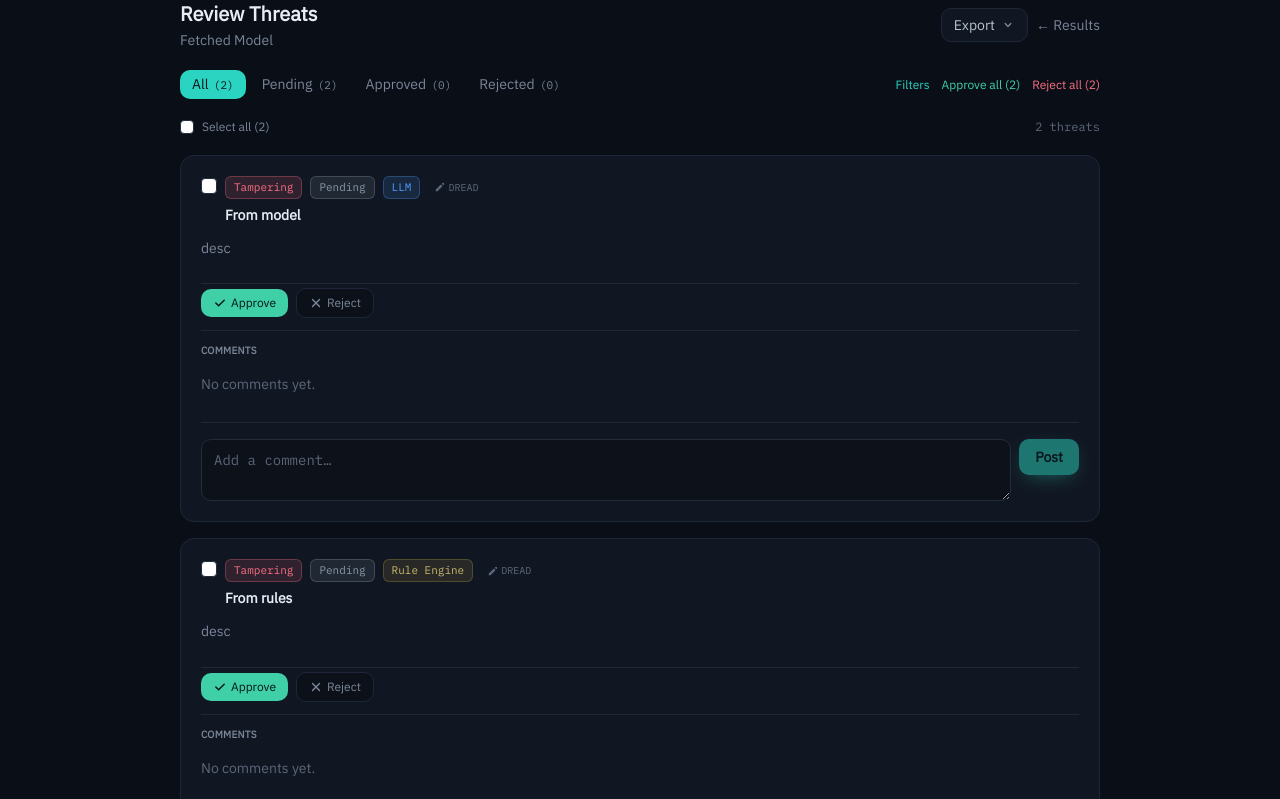
Test: Review — source filter › returns to all sources when "All" is chosen again
Expected: the heading "From model" is shown, [225,206,301,224]
What coordinates should you click on to do the following:
click the button "Filters"
I would click on:
 (913, 84)
Its box is [896,76,930,92].
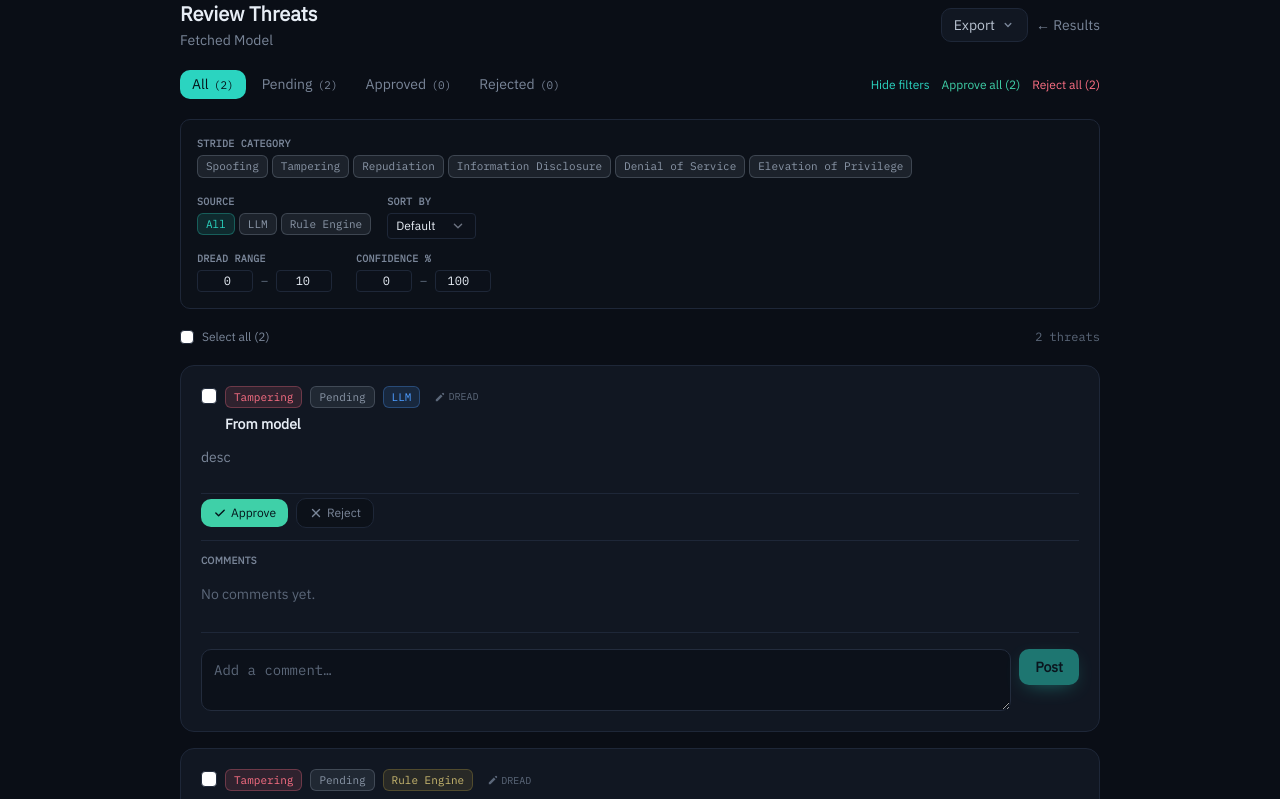
What coordinates should you click on to do the following:
click the button "LLM"
I would click on:
 (258, 224)
Its box is [239,212,277,235].
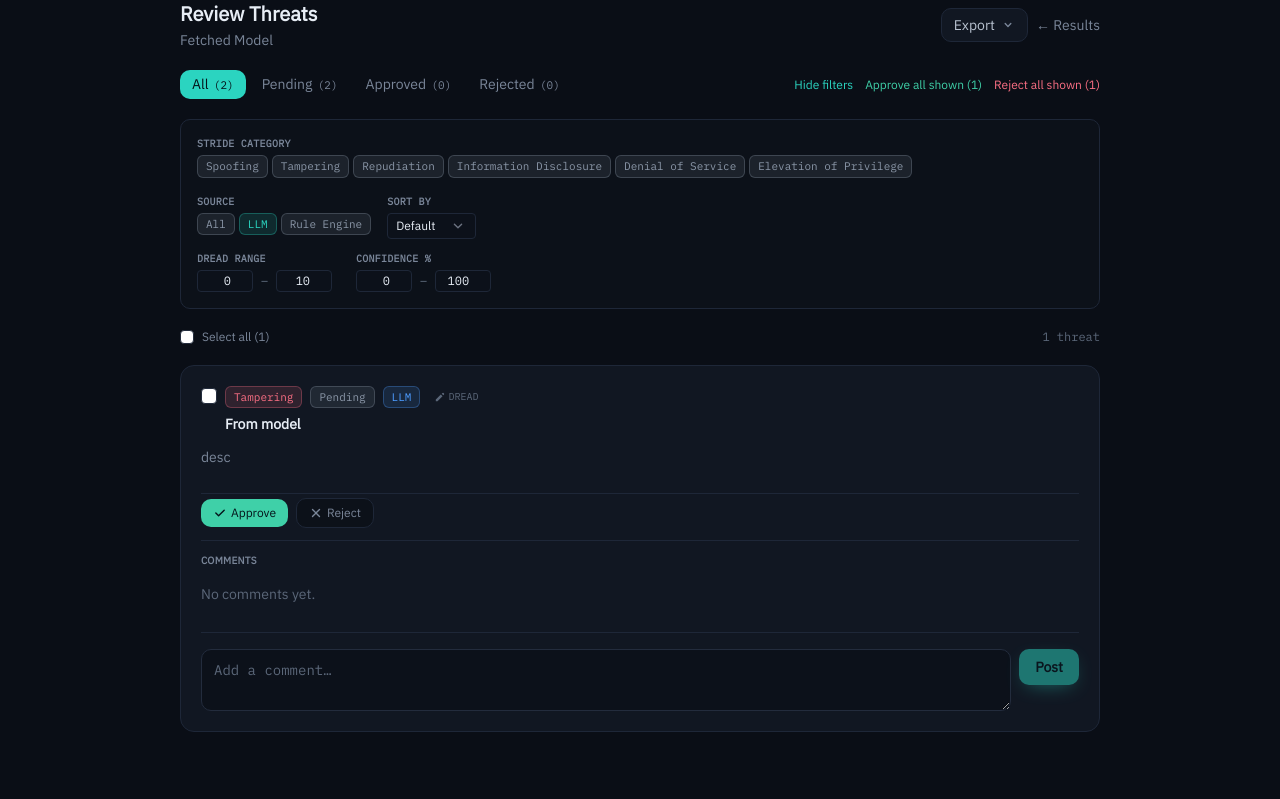
What coordinates should you click on to do the following:
click the button "All"
I would click on:
 (216, 224)
Its box is [197,212,235,235].
(page scrolled)
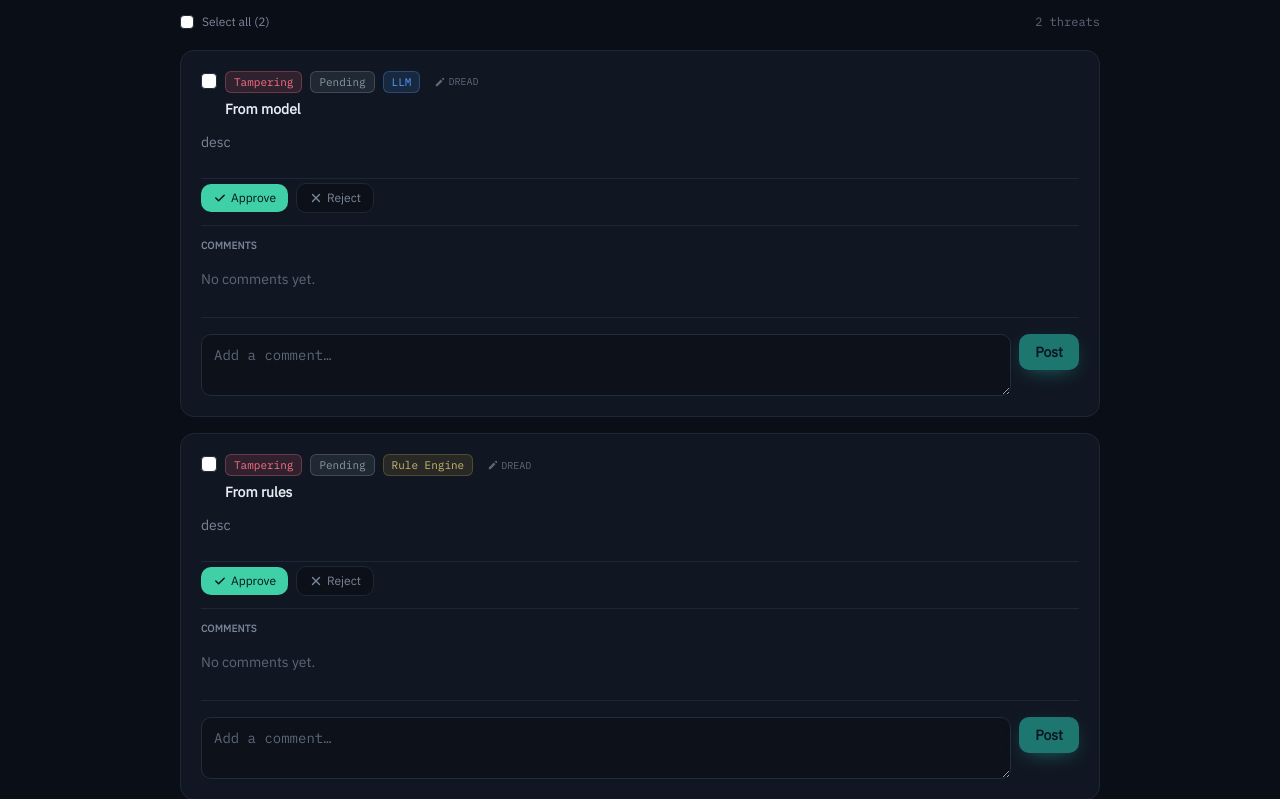
Expected: the heading "From model" is shown, [225,100,301,118]
Expected: the heading "From rules" is shown, [225,483,292,501]
